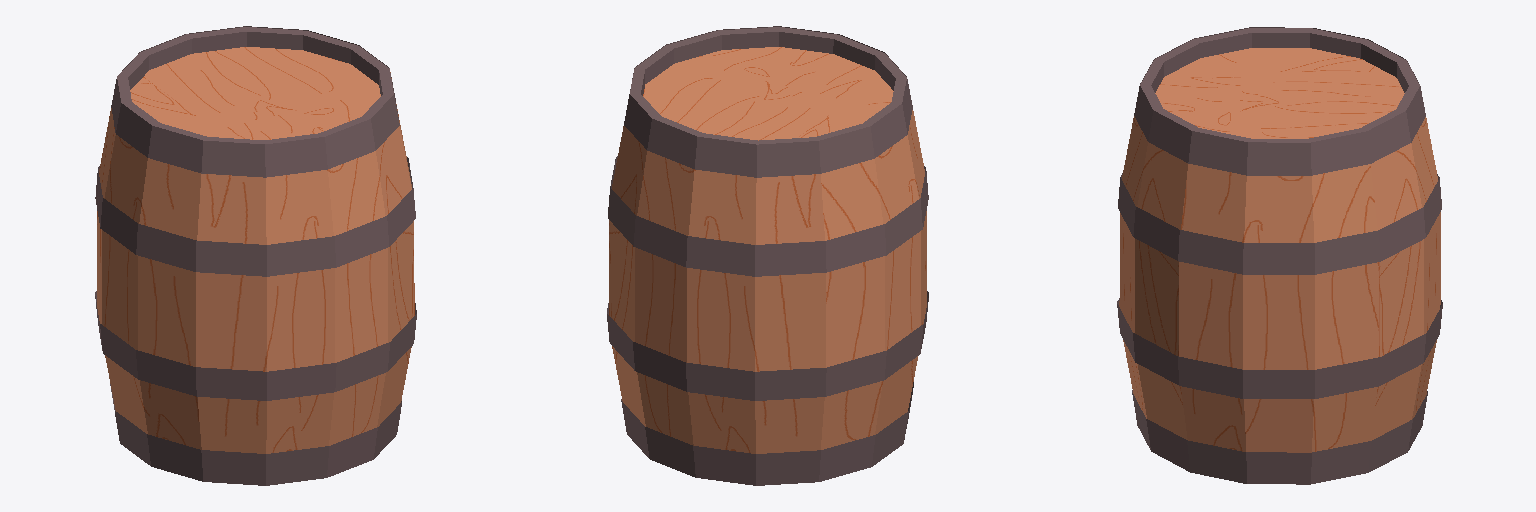
The picture shows the model from 3 angles: view 1: azimuth 30°, elevation 25°; view 2: azimuth 150°, elevation 25°; view 3: azimuth 270°, elevation 25°; orthographic projection.
Parts seen in each view (by area): view 1: barril:Mesh group7; view 2: barril:Mesh group7; view 3: barril:Mesh group7.
Boxes of the visible parts, box(x1,y1,x2,y2) form: barril:Mesh group7: box(95, 26, 416, 485); barril:Mesh group7: box(607, 26, 928, 485); barril:Mesh group7: box(1117, 27, 1442, 484).
Bounding box in the file's own units: 1.85 × 2.2 × 1.9.
2 materials, 2 textured.